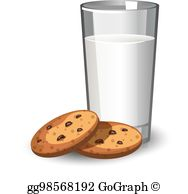glass of milk: (85, 11, 151, 117)
